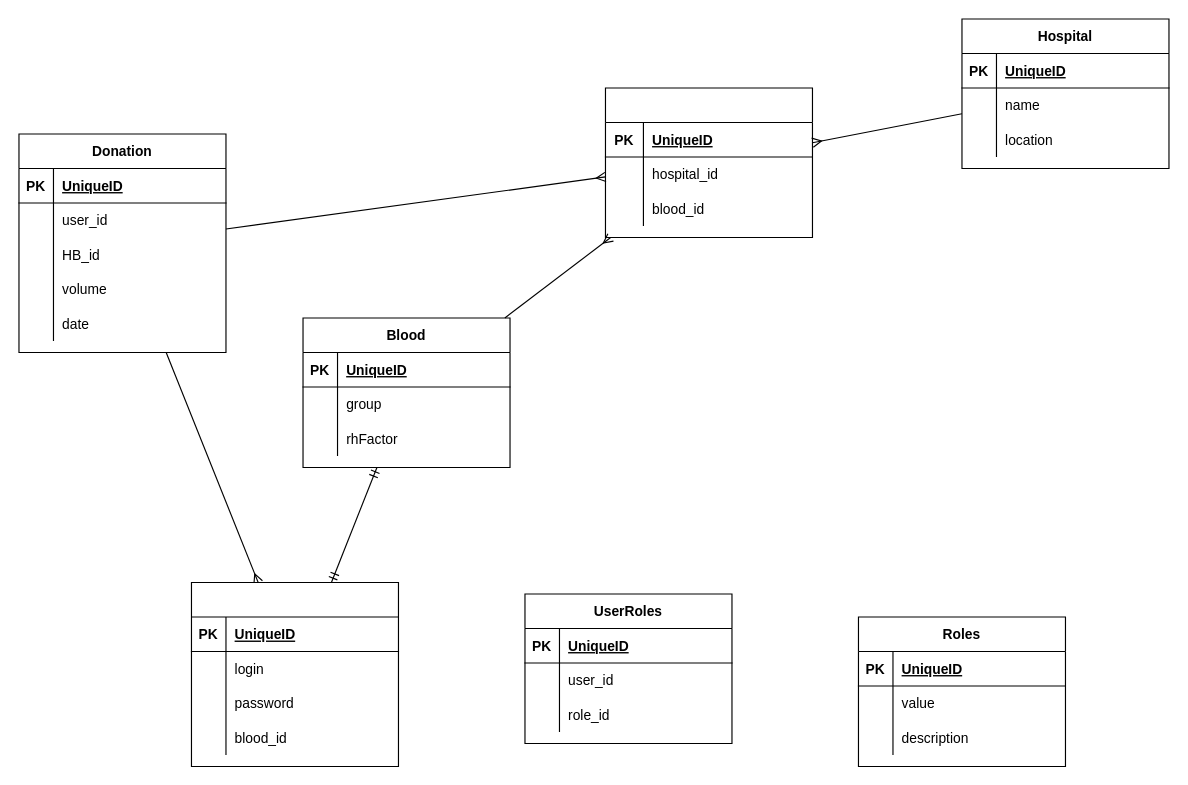
Image size: 1188x785. Some labels were removed from this diagram. Each missing label, with the box of its shape:
HospitalBlood: (604, 87, 812, 237)
User: (190, 581, 398, 766)
